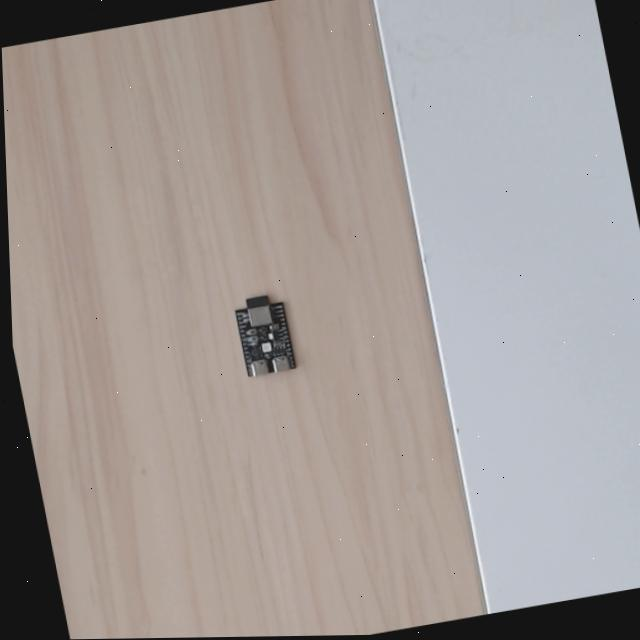ESP32C3-DevKit: (229, 289, 301, 379)
